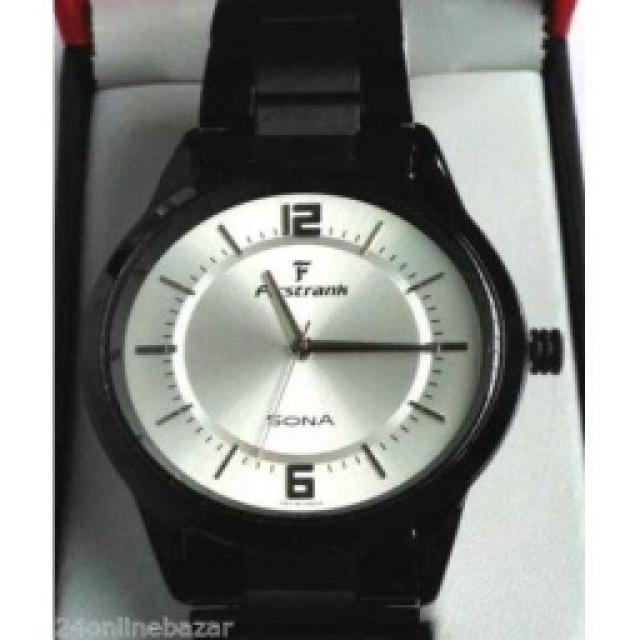saat: (73, 4, 571, 640)
